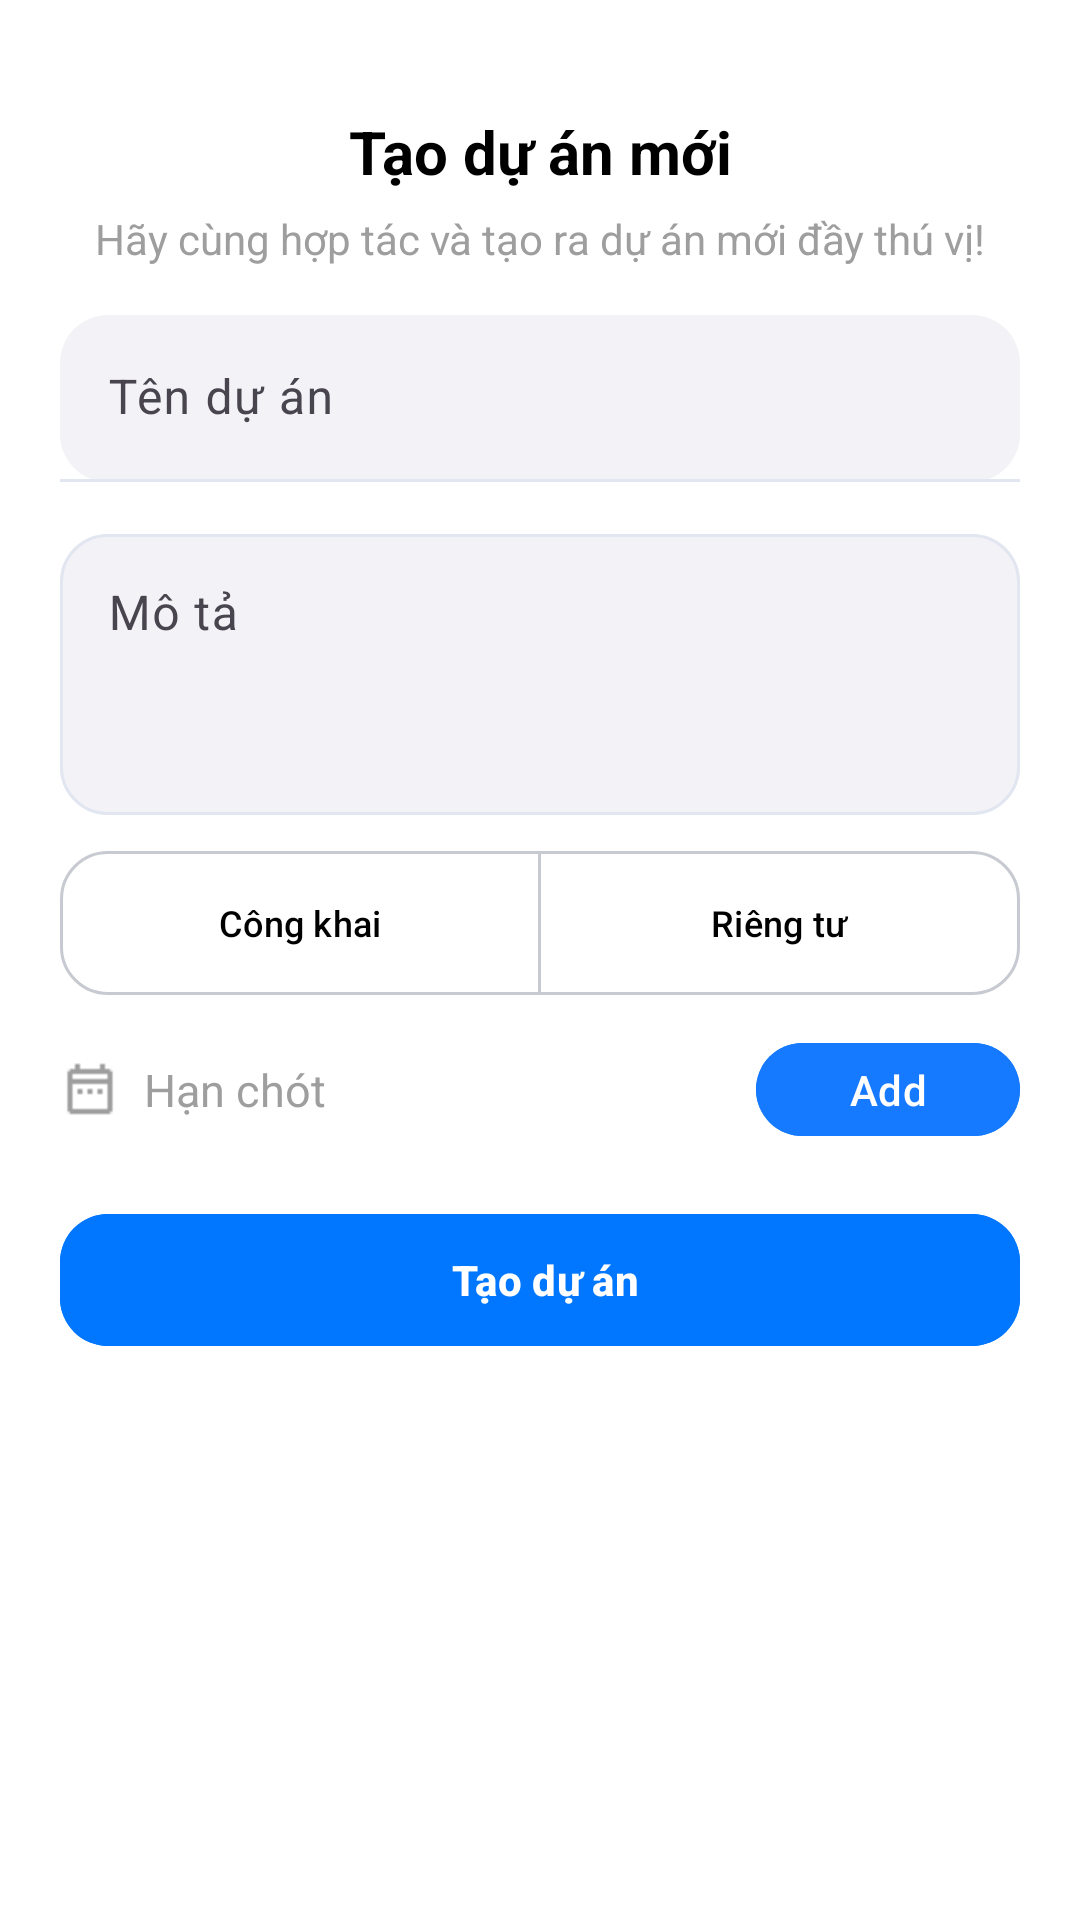

Icon click points for this 1080px×1920px phone screenshot, format (x=x, y=y):
calendar: (x=90, y=1089)
